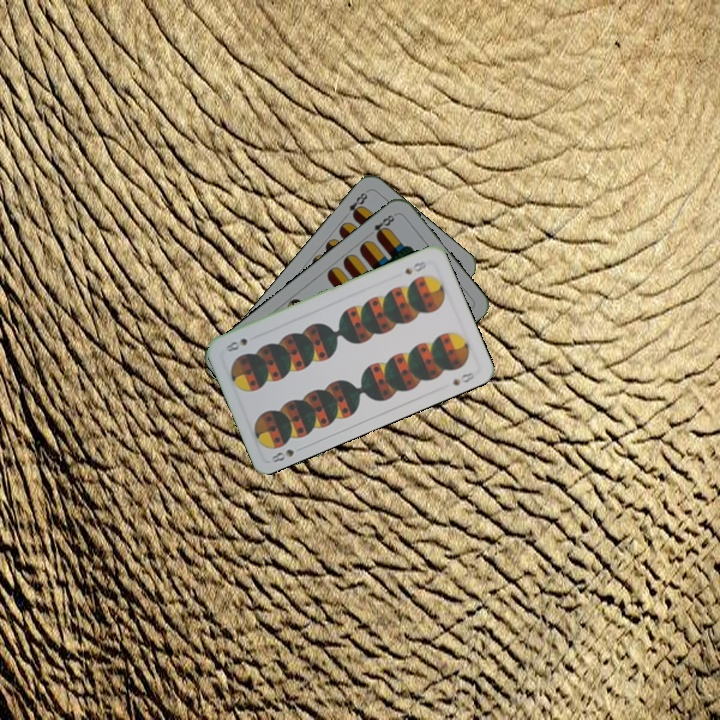E8: (369, 210, 399, 241), (344, 187, 371, 221)
S8: (267, 445, 296, 465), (401, 257, 429, 277)
